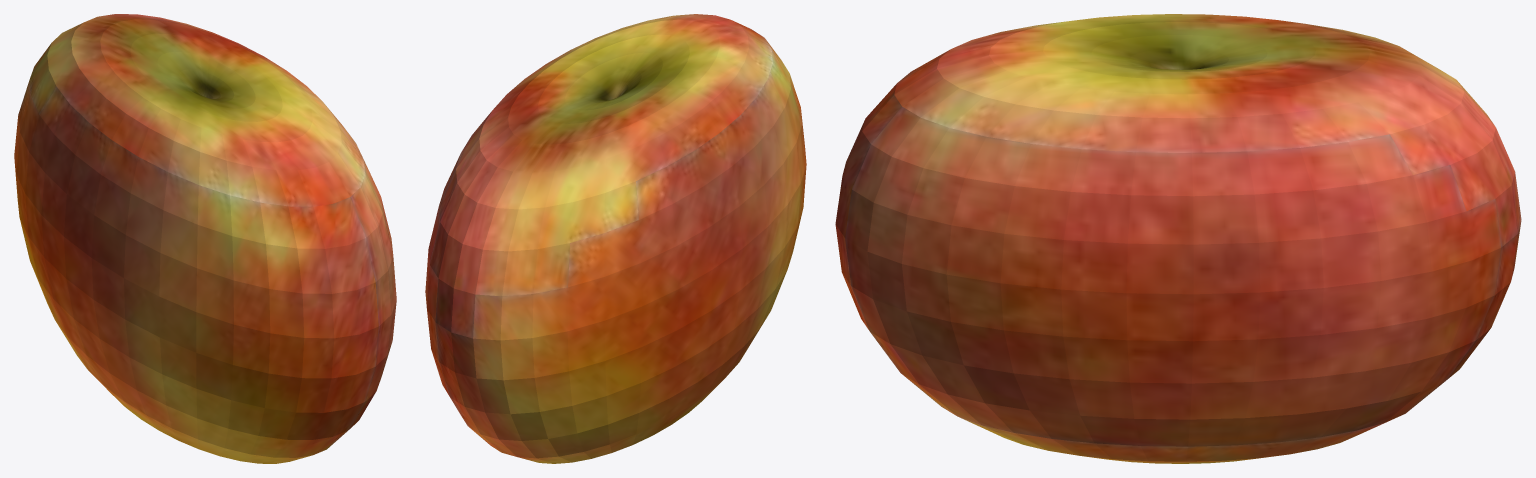
The model's file is apple_0.glb.
3 views of the same model, side by side, from view 1: azimuth 30°, elevation 25°; view 2: azimuth 150°, elevation 25°; view 3: azimuth 270°, elevation 25° (orthographic). The views are drawn at different scales.
Visible parts, largest first — view 1: apple_0; view 2: apple_0; view 3: apple_0.
Part boxes in pixels (left/top/right/bottom): apple_0: left=14, top=14, right=396, bottom=463; apple_0: left=425, top=14, right=806, bottom=463; apple_0: left=835, top=14, right=1521, bottom=463.
Size of the model in its own units: 0.0366 by 0.0492 by 0.0783.
Materials: 1 (1 with a texture image).
